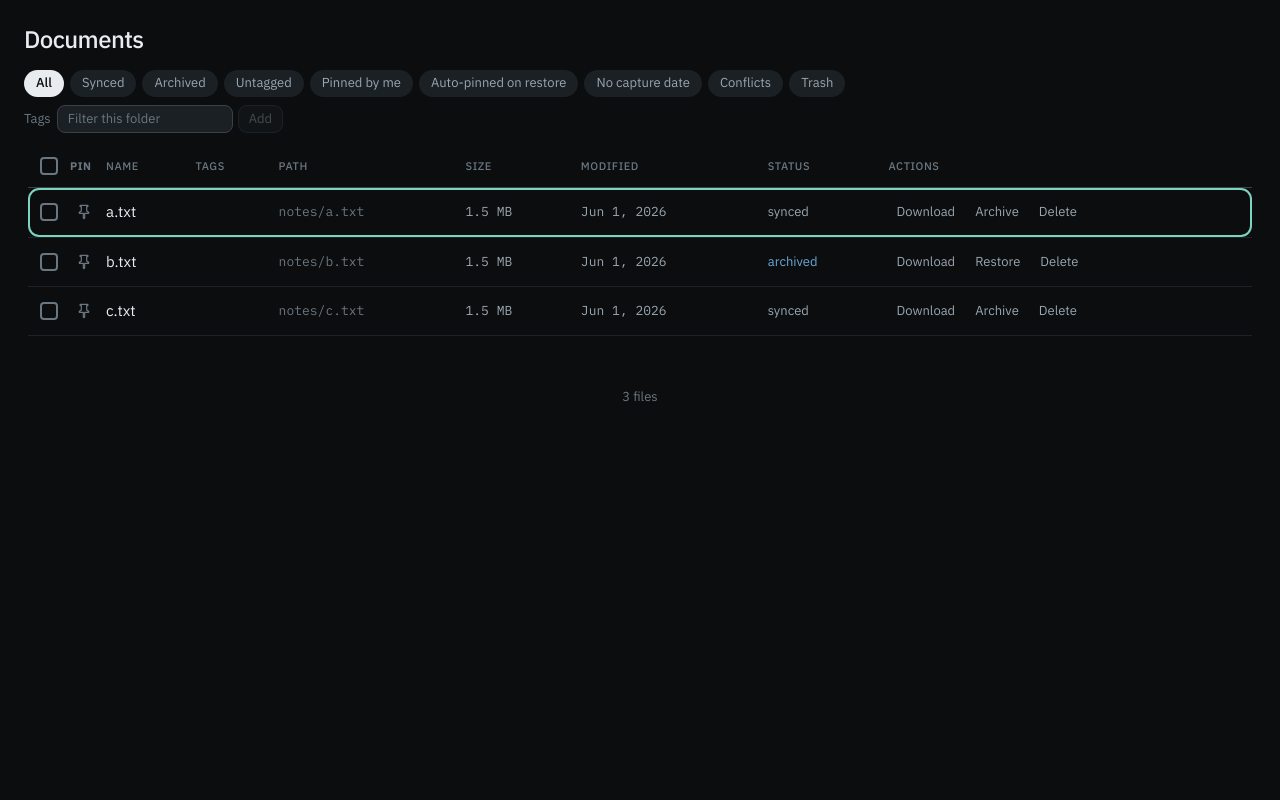
Test: FileBrowser › should show the header checkbox as indeterminate when only some rows are selected
The image size is (1280, 800).
Expected: the button "a.txt" is shown, [106,201,136,224]
What coordinates should you click on to do the following:
click the checkbox named "Select a.txt"
I would click on:
 (49, 212)
Its box is [40,203,58,221].
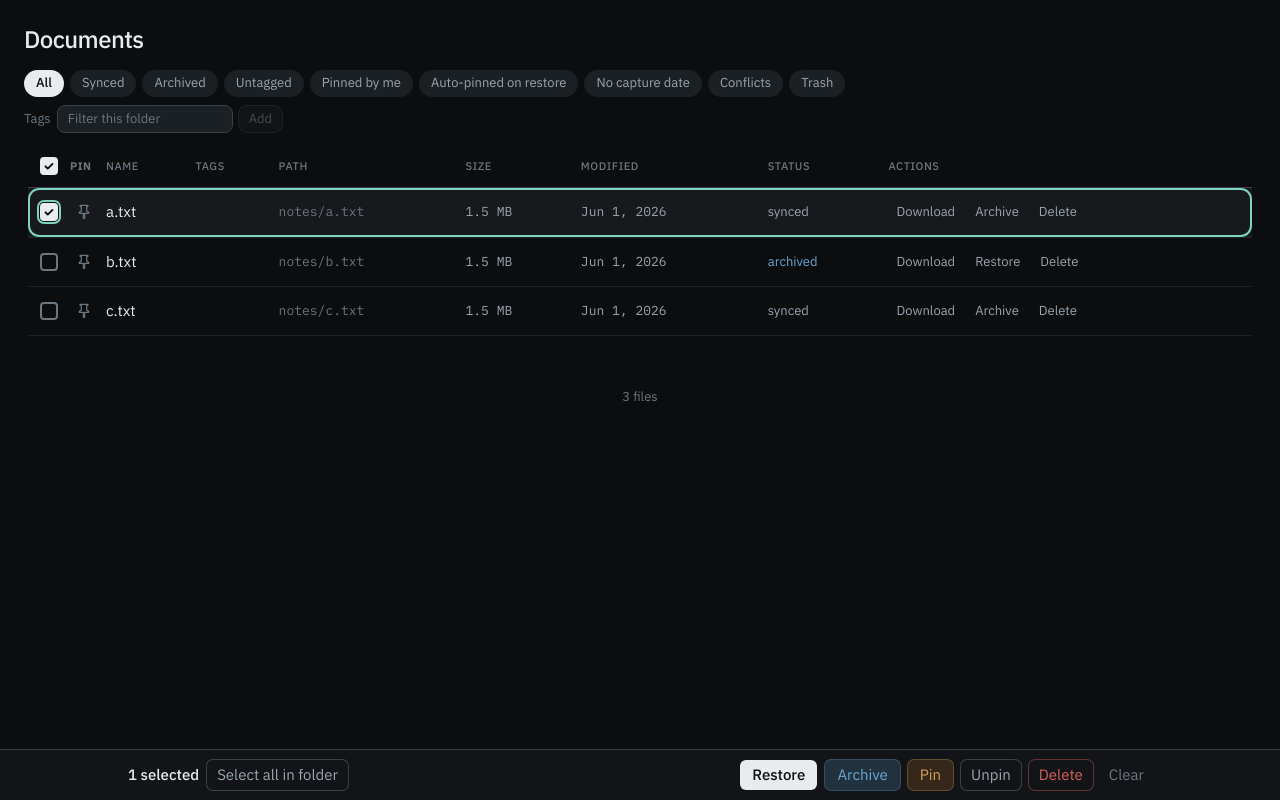
What coordinates should you click on to do the following:
click the checkbox named "Select all loaded files"
I would click on:
 (49, 166)
Its box is [40,157,58,175].
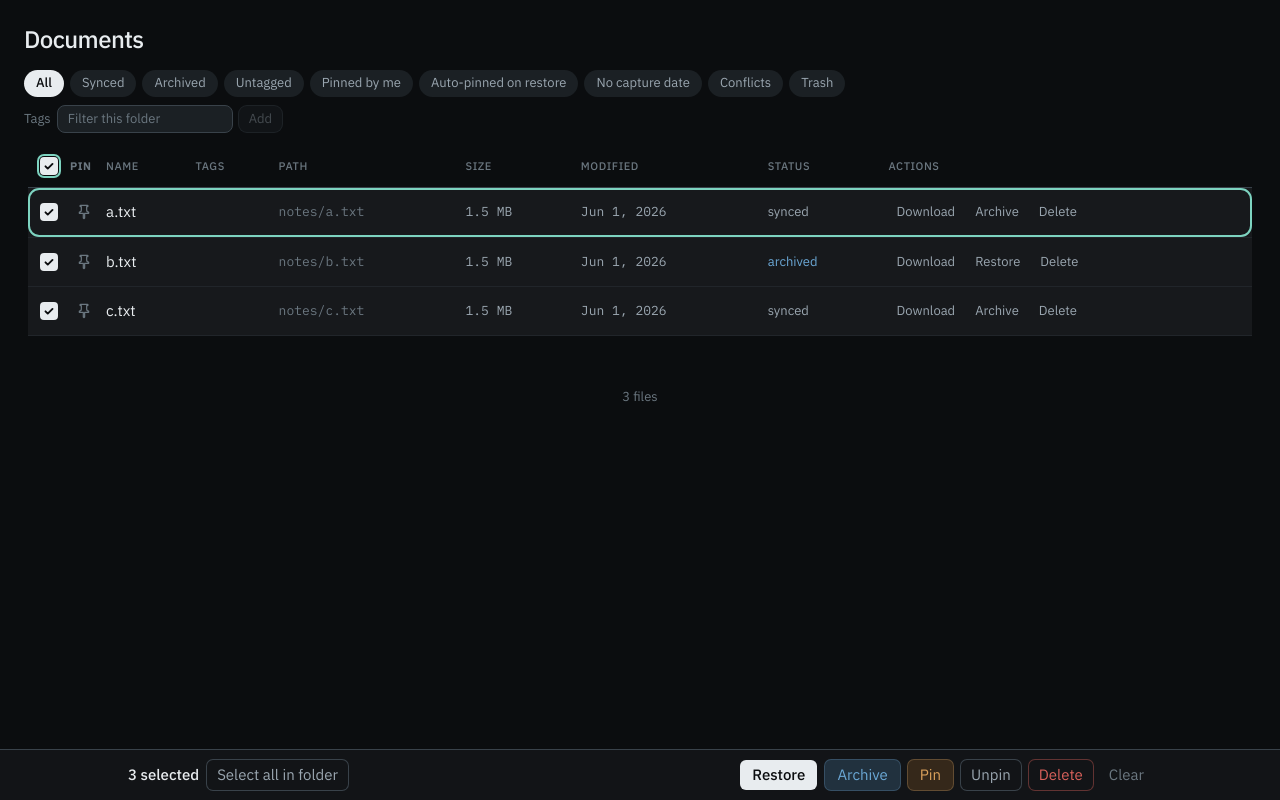
Expected: the checkbox named "Select all loaded files" is checked, [40,157,58,175]
Expected: the text "3 selected" is shown, [128,764,199,786]
